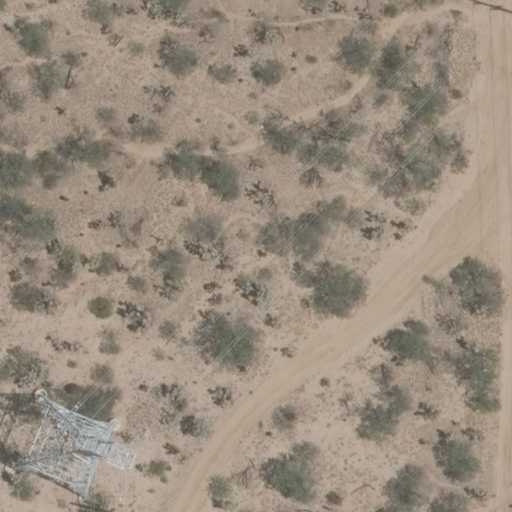TT: (18, 386, 122, 503)
